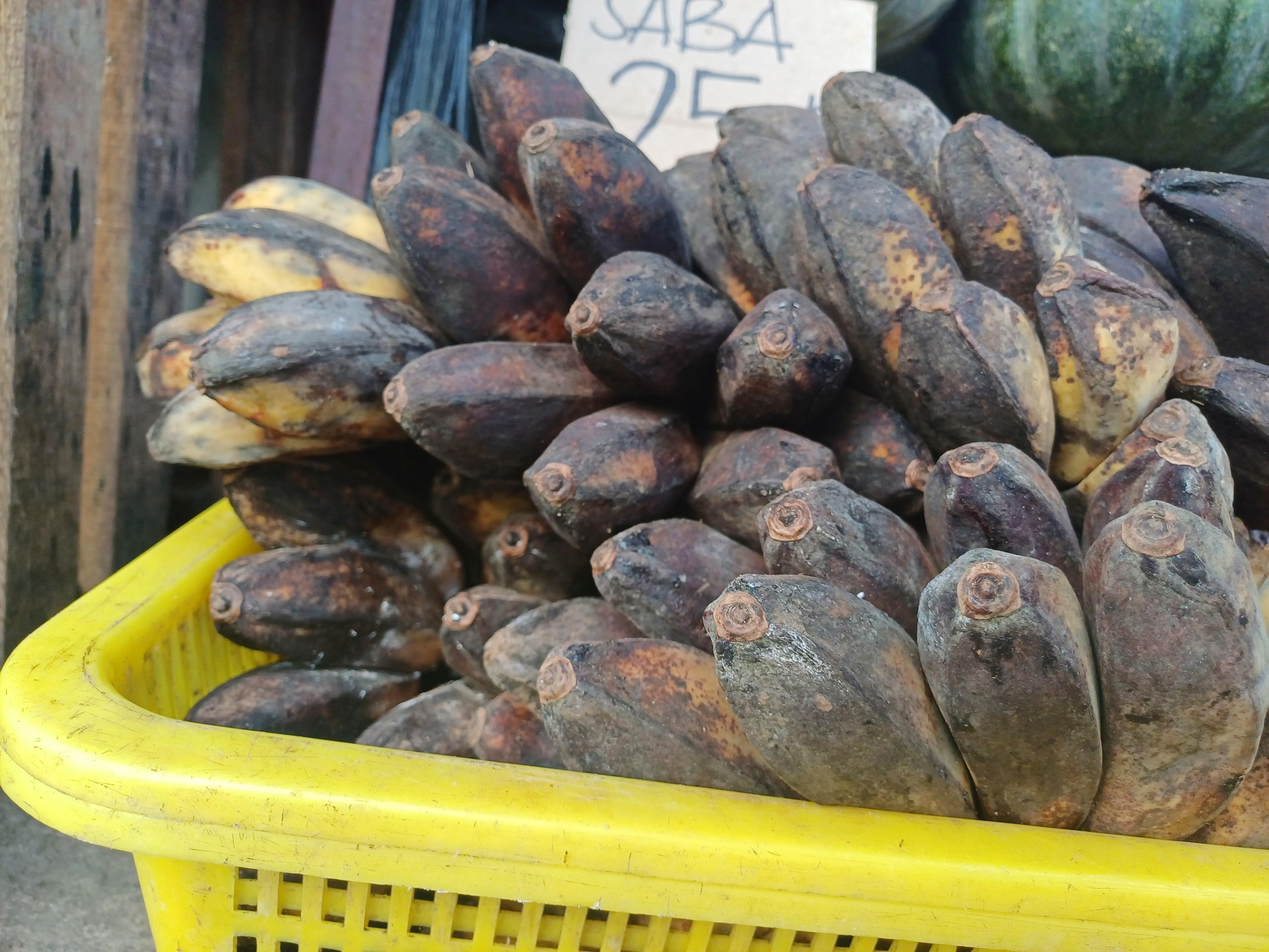overripe: (463, 438, 1269, 850), (363, 40, 936, 551), (666, 70, 1236, 540), (187, 436, 602, 762), (1053, 156, 1269, 538)
ripe: (135, 176, 439, 470)
